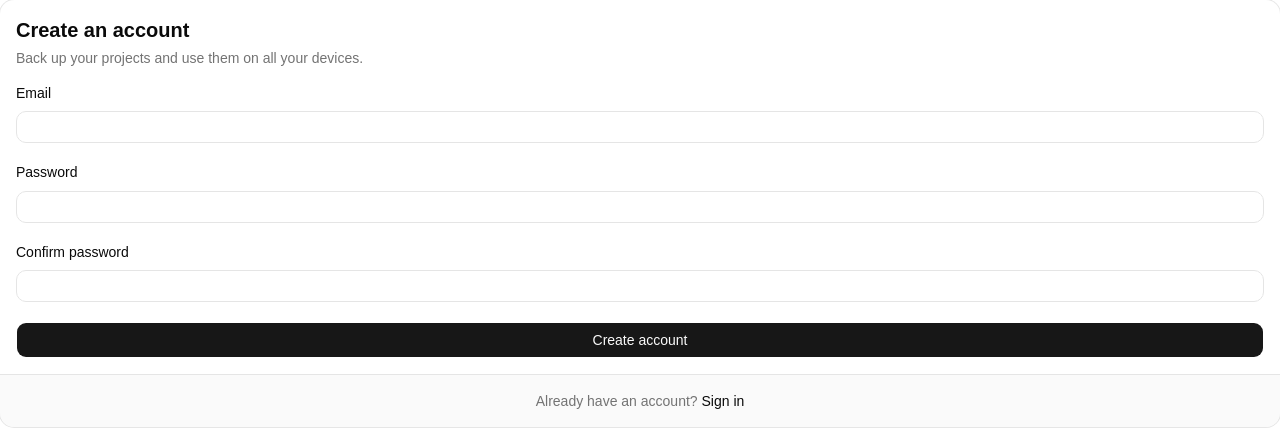
Test: SignupPage › asks to confirm the email when required
Type "me@example.com" into the field labelled "Email" at (640, 127), box [16,111,1264,143]
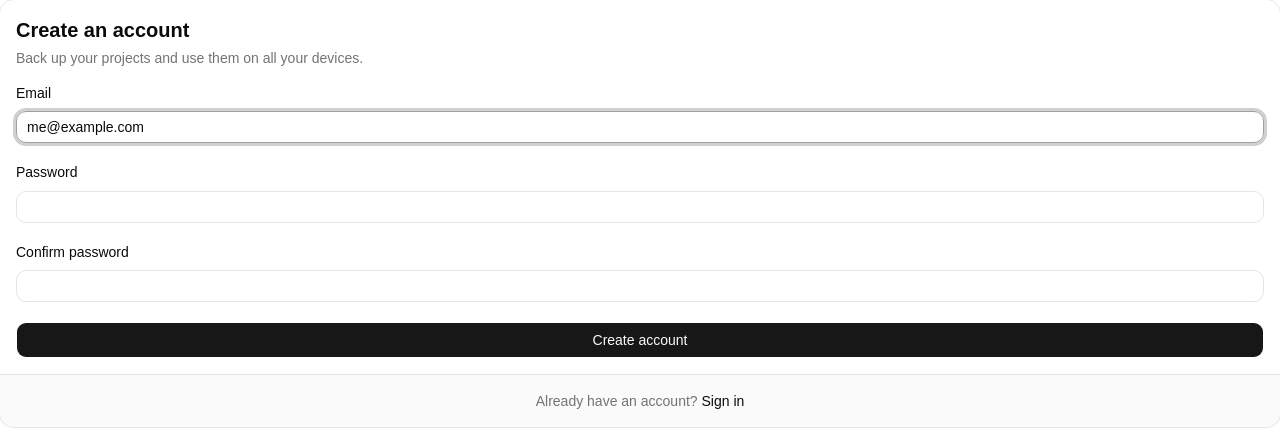
Type "password-1" into the password field labelled "Password" at (640, 206), box [16,190,1264,222]
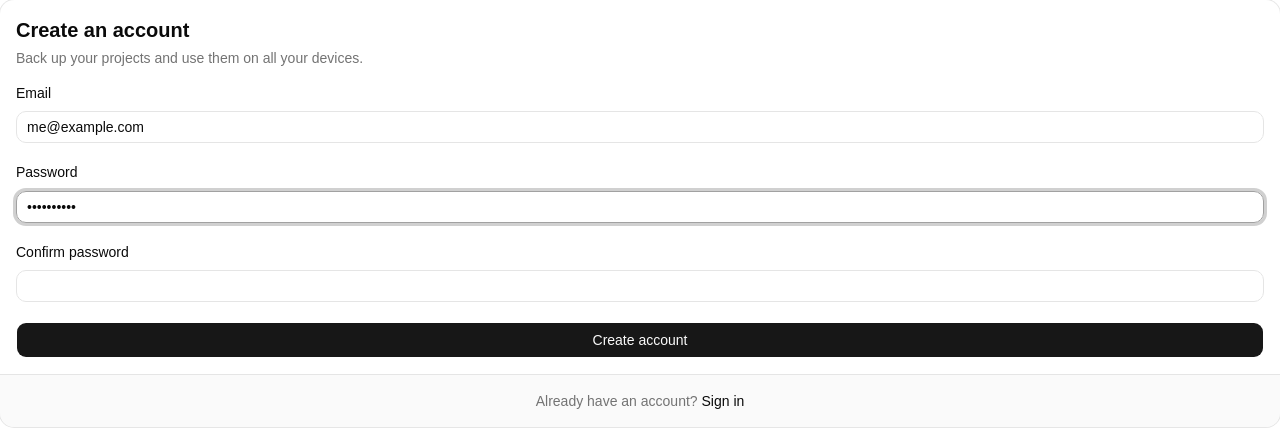
Type "password-1" into the password field labelled "Confirm password" at (640, 286), box [16,270,1264,302]
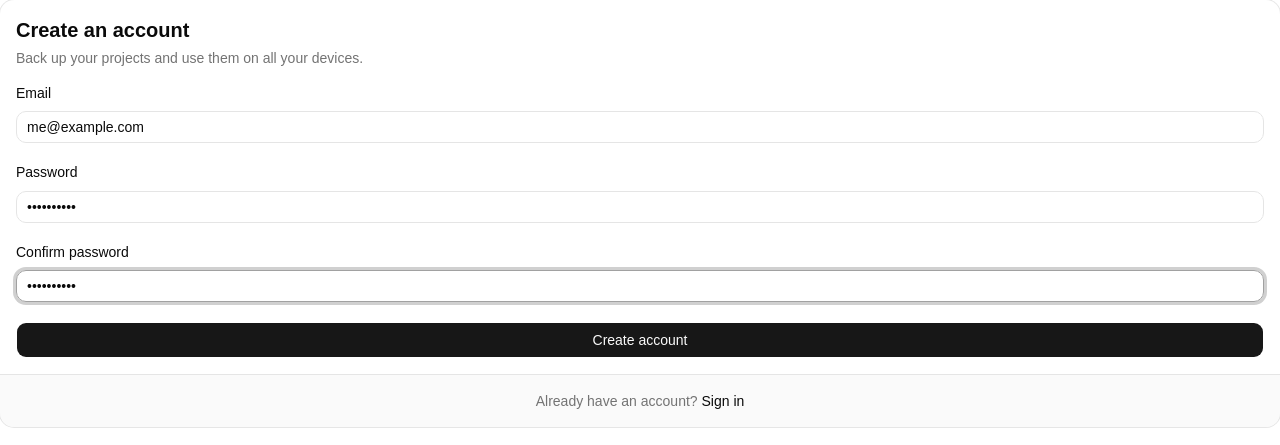
Click the button "Create account" at (640, 340), box [16,322,1264,358]
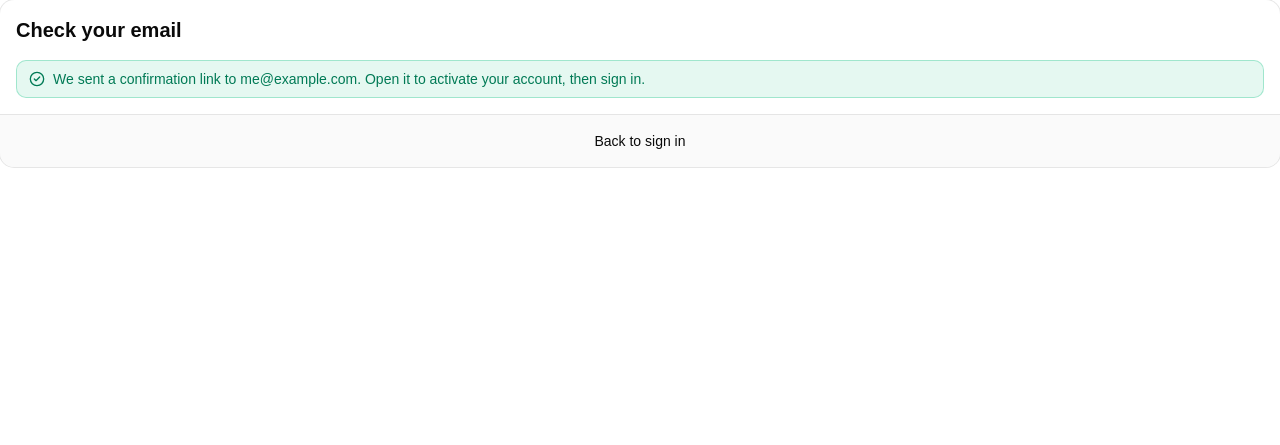
Check: the text "sent a confirmation link to me@example.com" is shown, box [53,71,645,87]
